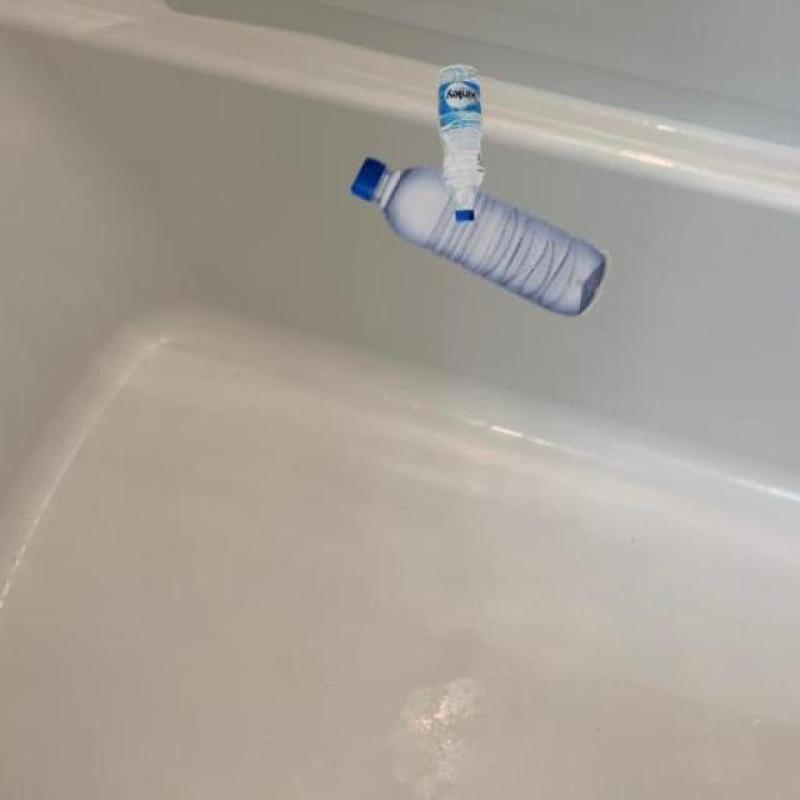botella: (349, 155, 607, 316), (436, 63, 484, 219)
